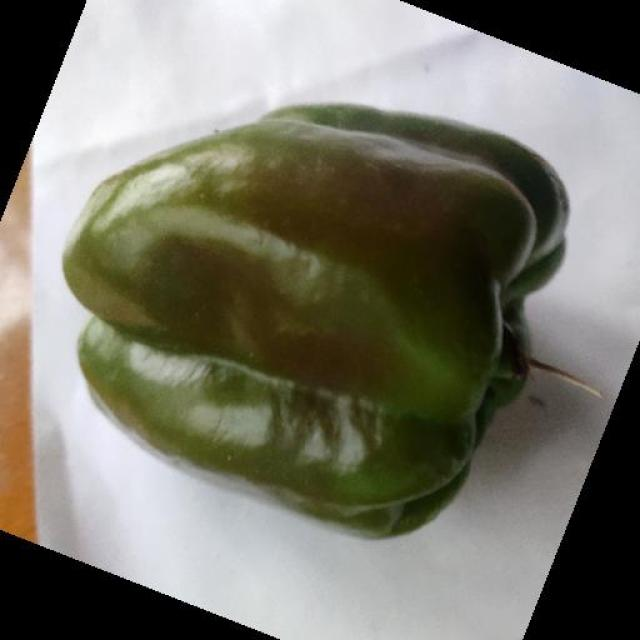Stale_Capsicum: (70, 113, 550, 502)
